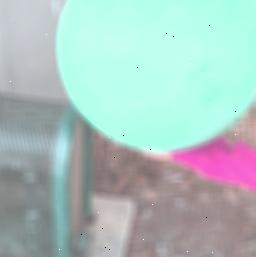algae: (53, 0, 256, 155)
